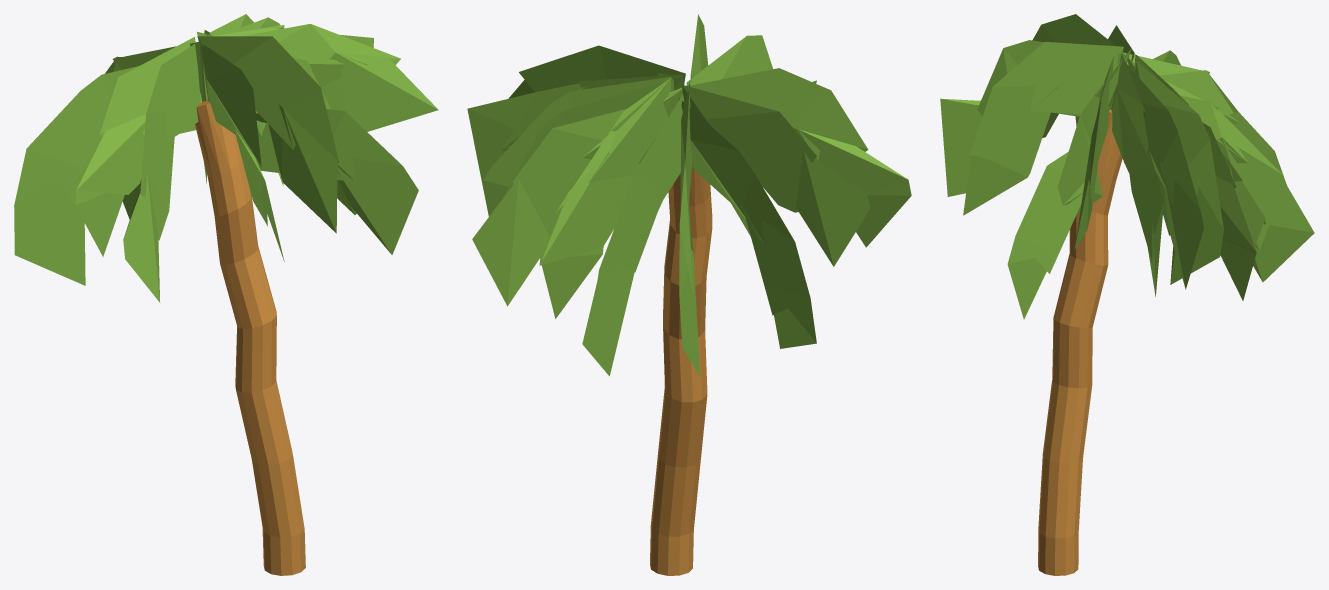
3 renders of one model, left to right at view 1: azimuth 30°, elevation 25°; view 2: azimuth 150°, elevation 25°; view 3: azimuth 270°, elevation 25°, orthographic. The views are drawn at different scales.
Visible parts, largest first — view 1: mesh_551291561, group_2033907984, group_199317501, group_137293426, group_1563798512, group_303723010, group_1744041653, group_1112982328, group_1114674819; view 2: mesh_551291561, group_303723010, group_761979314, group_1221962360, group_1563798512, group_2033907984, group_2100156615, group_1559828347, group_137293426, group_1114674819, group_167516316, group_1112982328 (+2 smaller); view 3: mesh_551291561, group_199317501, group_1744041653, group_2100156615, group_167516316, group_1559828347, group_671833391, group_1112982328, group_761979314, group_1114674819, group_137293426, group_1563798512 (+1 smaller).
Part boxes in pixels (x1,y1,x2,y2): mesh_551291561: [195, 98, 305, 575]; group_2033907984: [14, 66, 195, 285]; group_199317501: [197, 36, 338, 233]; group_137293426: [243, 24, 438, 131]; group_1563798512: [123, 44, 200, 302]; group_303723010: [75, 37, 204, 256]; group_1744041653: [197, 32, 418, 254]; group_1112982328: [201, 45, 284, 261]; group_1114674819: [105, 42, 204, 102]; mesh_551291561: [650, 164, 712, 575]; group_303723010: [682, 85, 870, 266]; group_761979314: [472, 84, 689, 306]; group_1221962360: [539, 78, 671, 318]; group_1563798512: [688, 68, 911, 247]; group_2033907984: [679, 98, 816, 348]; group_2100156615: [582, 94, 684, 376]; group_1559828347: [467, 74, 682, 216]; group_137293426: [509, 45, 685, 98]; group_1114674819: [679, 81, 700, 376]; group_167516316: [483, 76, 674, 211]; group_1112982328: [686, 35, 816, 85]; mesh_551291561: [1038, 109, 1122, 575]; group_199317501: [963, 42, 1123, 215]; group_1744041653: [1007, 48, 1131, 319]; group_2100156615: [1127, 61, 1314, 282]; group_167516316: [1126, 63, 1203, 289]; group_1559828347: [1111, 53, 1163, 296]; group_671833391: [1135, 61, 1223, 284]; group_1112982328: [940, 40, 1125, 196]; group_761979314: [1126, 54, 1256, 300]; group_1114674819: [1122, 52, 1286, 184]; group_137293426: [1074, 56, 1113, 249]; group_1563798512: [1032, 14, 1124, 137].
Bounding box in the file's own units: 79.66 × 112 × 73.18.
